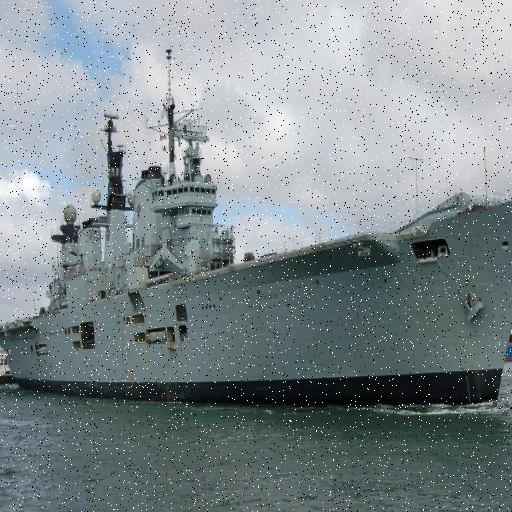Portanaves: (1, 44, 512, 417)
